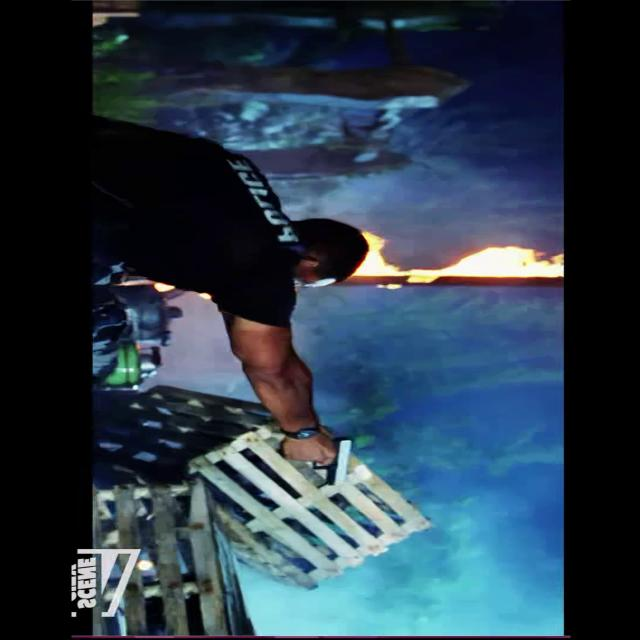weapons: (276, 426, 364, 492)
